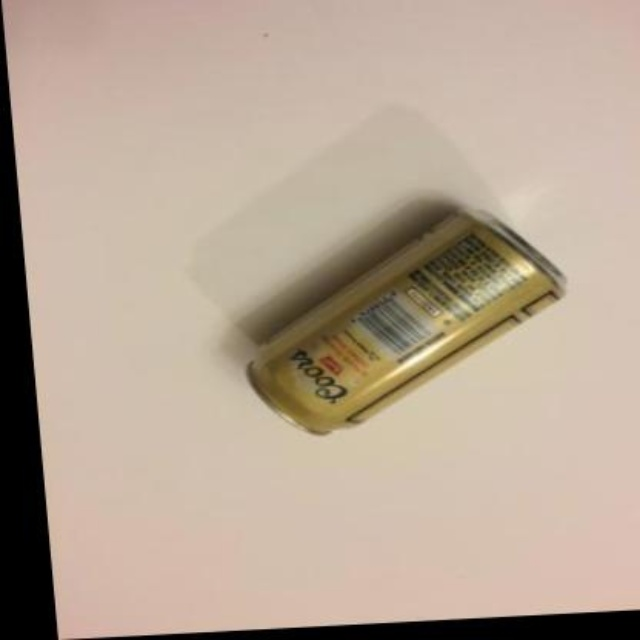trash: (248, 211, 565, 432)
